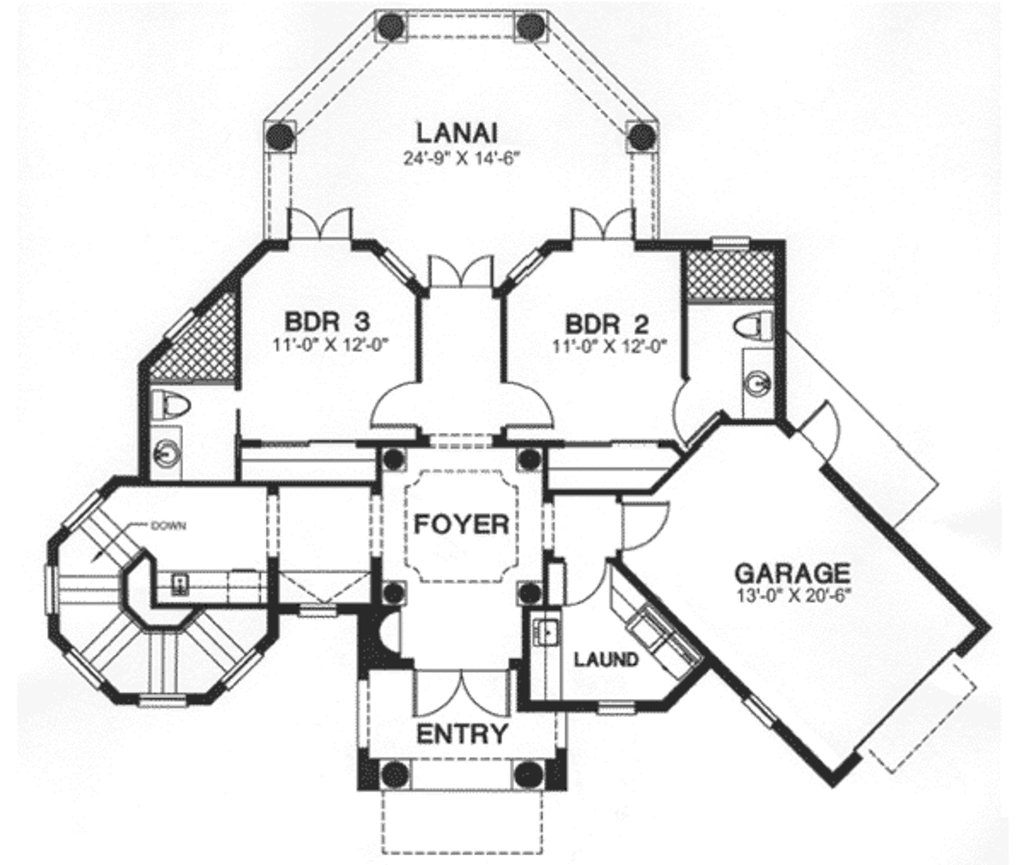door: (411, 665, 511, 720), (669, 379, 718, 449), (495, 379, 556, 429), (794, 394, 838, 460), (425, 253, 498, 291), (286, 201, 352, 242), (621, 498, 670, 552), (569, 207, 636, 244), (560, 556, 608, 607), (365, 380, 416, 428)
large_sink: (147, 384, 193, 427), (727, 305, 774, 342)
small_sink: (739, 347, 776, 423), (151, 424, 185, 484)
windows: (58, 491, 112, 531), (63, 643, 105, 690), (745, 691, 785, 729), (289, 598, 345, 623), (589, 699, 636, 720)
